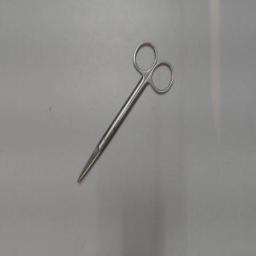Curved Mayo Scissors: (74, 38, 178, 186)
